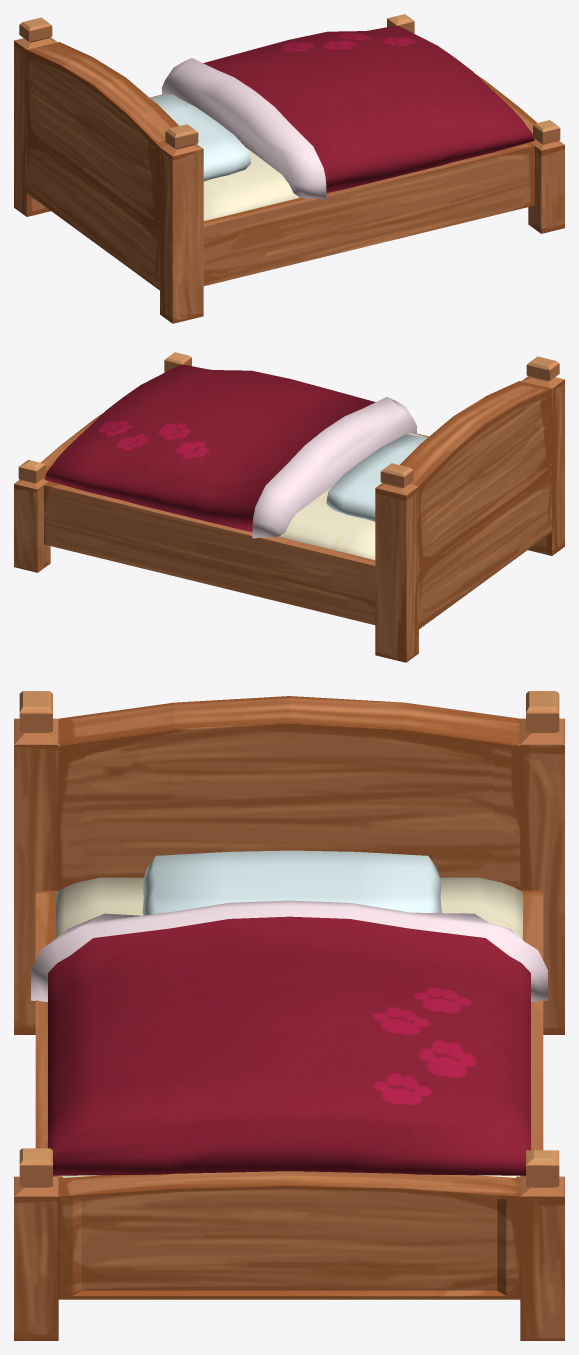
The model's file is Bed_ForPlayer.fbx.
3 renders of one model, top to bottom at view 1: azimuth 30°, elevation 25°; view 2: azimuth 150°, elevation 25°; view 3: azimuth 270°, elevation 25°, orthographic. The views are drawn at different scales.
Visible parts, largest first — view 1: Bed_board, quilt, sheet, Pillow; view 2: Bed_board, quilt, sheet, Pillow; view 3: Bed_board, quilt, Pillow, sheet.
Boxes of the visible parts, bbox=[...] form: Bed_board: bbox=[14, 14, 564, 323]; quilt: bbox=[161, 26, 534, 199]; sheet: bbox=[163, 94, 299, 220]; Pillow: bbox=[150, 94, 250, 181]; Bed_board: bbox=[14, 352, 564, 662]; quilt: bbox=[44, 365, 417, 538]; sheet: bbox=[279, 433, 427, 559]; Pillow: bbox=[326, 434, 426, 521]; Bed_board: bbox=[14, 691, 564, 1340]; quilt: bbox=[31, 900, 547, 1175]; Pillow: bbox=[142, 850, 441, 915]; sheet: bbox=[56, 877, 522, 1177].
Bounding box in the file's own units: 533 × 242 × 374.
1 material, 1 textured.
